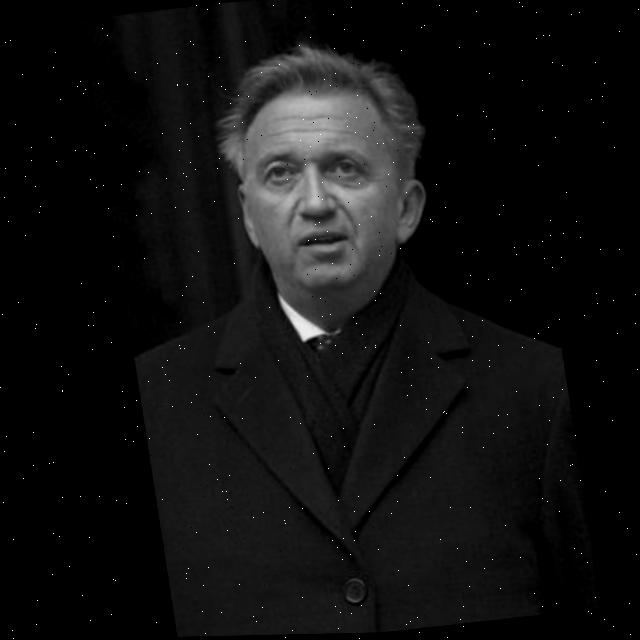face: (222, 70, 431, 310)
